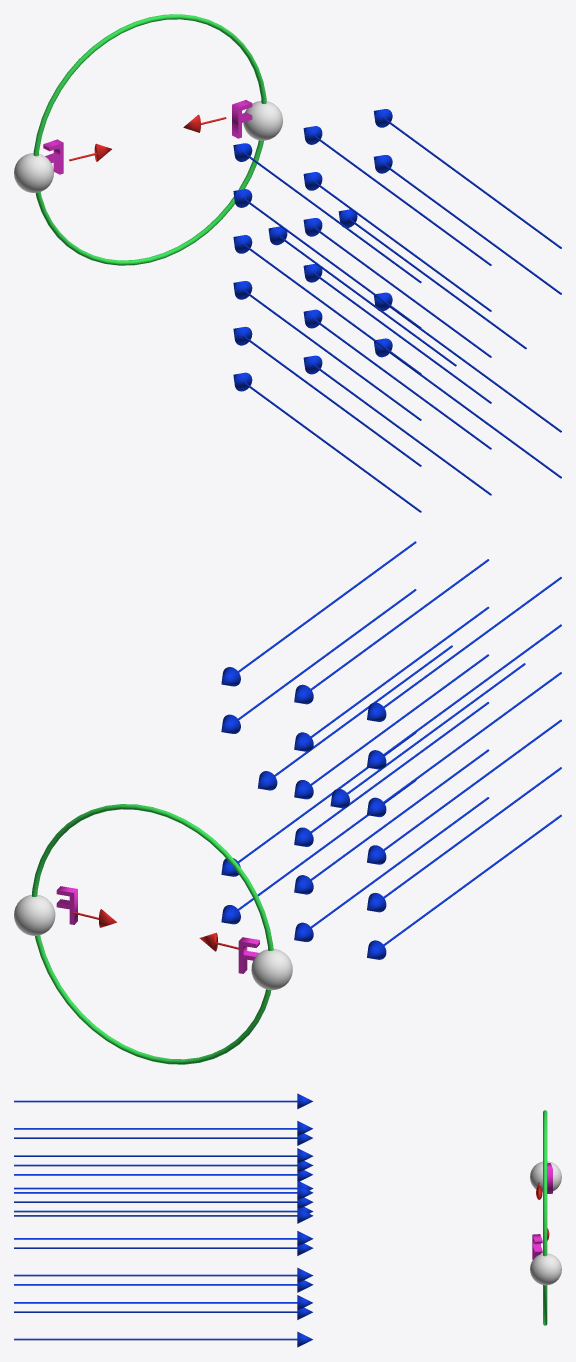
File: circ_motion_animation.glb
3 renders of one model, top to bottom at view 1: azimuth 30°, elevation 25°; view 2: azimuth 150°, elevation 25°; view 3: azimuth 270°, elevation 25°, orthographic. The views are drawn at different scales.
Visible parts, largest first — view 1: Torus.003, Sphere.001, Sphere; view 2: Torus.003, Sphere.001, Sphere; view 3: Torus.003, Surface.149, Surface.001, Surface.012, Surface.016, Surface.019, Surface.030, Sphere, Surface.141, Surface.157, Surface.003, Surface.006 (+9 smaller).
Boxes of the visible parts, bbox=[...] form: Torus.003: bbox=[33, 14, 266, 265]; Sphere.001: bbox=[14, 153, 53, 192]; Sphere: bbox=[243, 101, 282, 140]; Torus.003: bbox=[32, 804, 273, 1064]; Sphere.001: bbox=[251, 949, 292, 990]; Sphere: bbox=[14, 894, 55, 935]; Torus.003: bbox=[543, 1110, 547, 1325]; Surface.149: bbox=[14, 1338, 297, 1340]; Surface.001: bbox=[14, 1274, 297, 1276]; Surface.012: bbox=[14, 1210, 297, 1212]; Surface.016: bbox=[14, 1187, 297, 1189]; Surface.019: bbox=[14, 1164, 297, 1166]; Surface.030: bbox=[14, 1100, 297, 1102]; Sphere: bbox=[530, 1253, 561, 1285]; Surface.141: bbox=[14, 1311, 297, 1312]; Surface.157: bbox=[14, 1284, 297, 1285]; Surface.003: bbox=[14, 1302, 297, 1303]; Surface.006: bbox=[14, 1247, 297, 1248].
Bounding box in the file's own units: 6.02 × 5.41 × 13.56.
